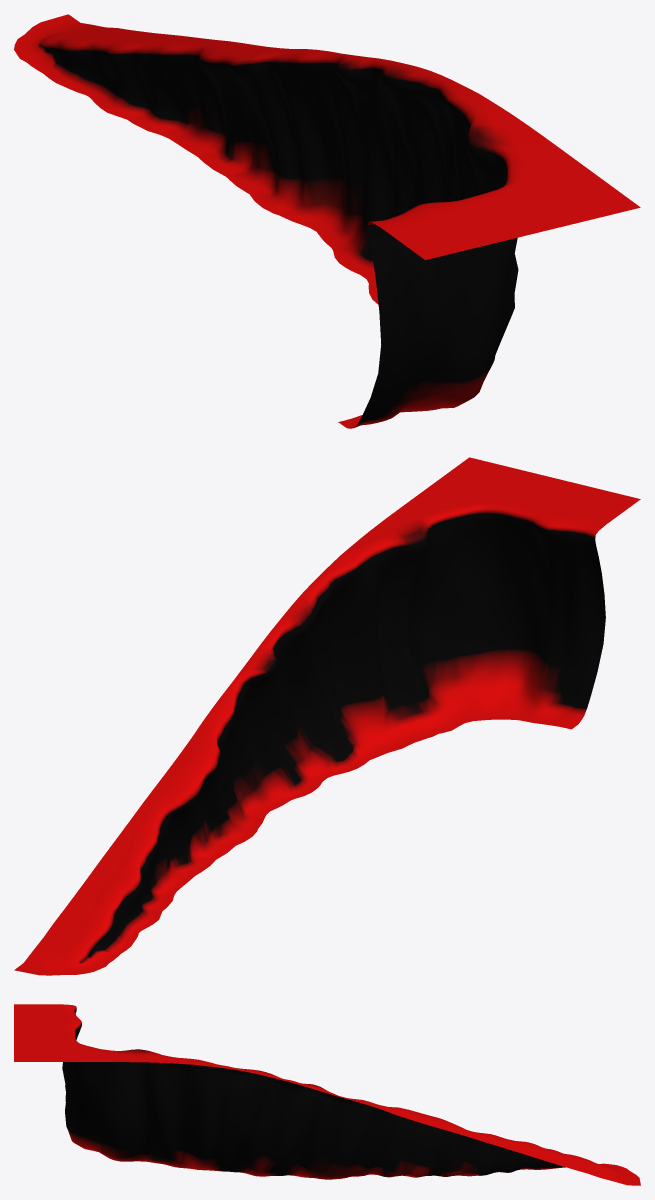
File: ClimbCliff02D 2M Foreground.fbx
3 renders of one model, top to bottom at view 1: azimuth 30°, elevation 25°; view 2: azimuth 150°, elevation 25°; view 3: azimuth 270°, elevation 25°, orthographic. The views are drawn at different scales.
Visible parts, largest first — view 1: ClimbCliff02D 2M Foreground; view 2: ClimbCliff02D 2M Foreground; view 3: ClimbCliff02D 2M Foreground.
Boxes of the visible parts, <box> form: ClimbCliff02D 2M Foreground: <box>14,14,640,428</box>; ClimbCliff02D 2M Foreground: <box>14,457,640,975</box>; ClimbCliff02D 2M Foreground: <box>14,1004,640,1185</box>.
Bounding box in the file's own units: 2.02 × 2 × 9.19.
